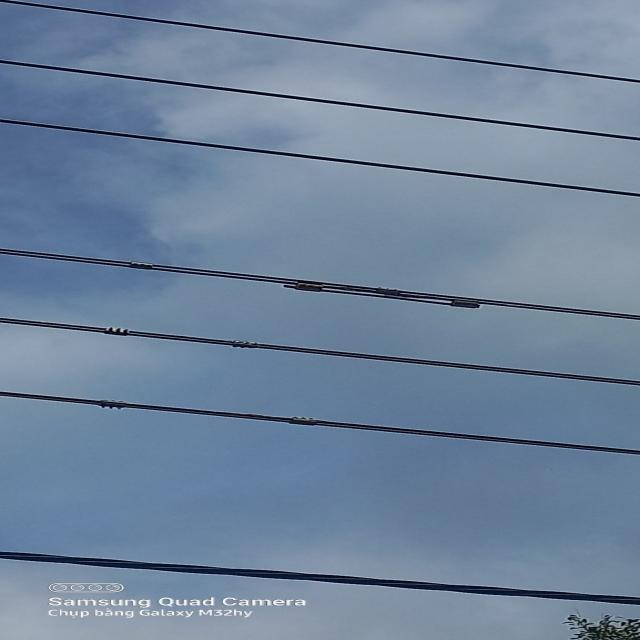wire: (0, 59, 640, 144), (0, 244, 640, 327), (0, 388, 640, 458)
